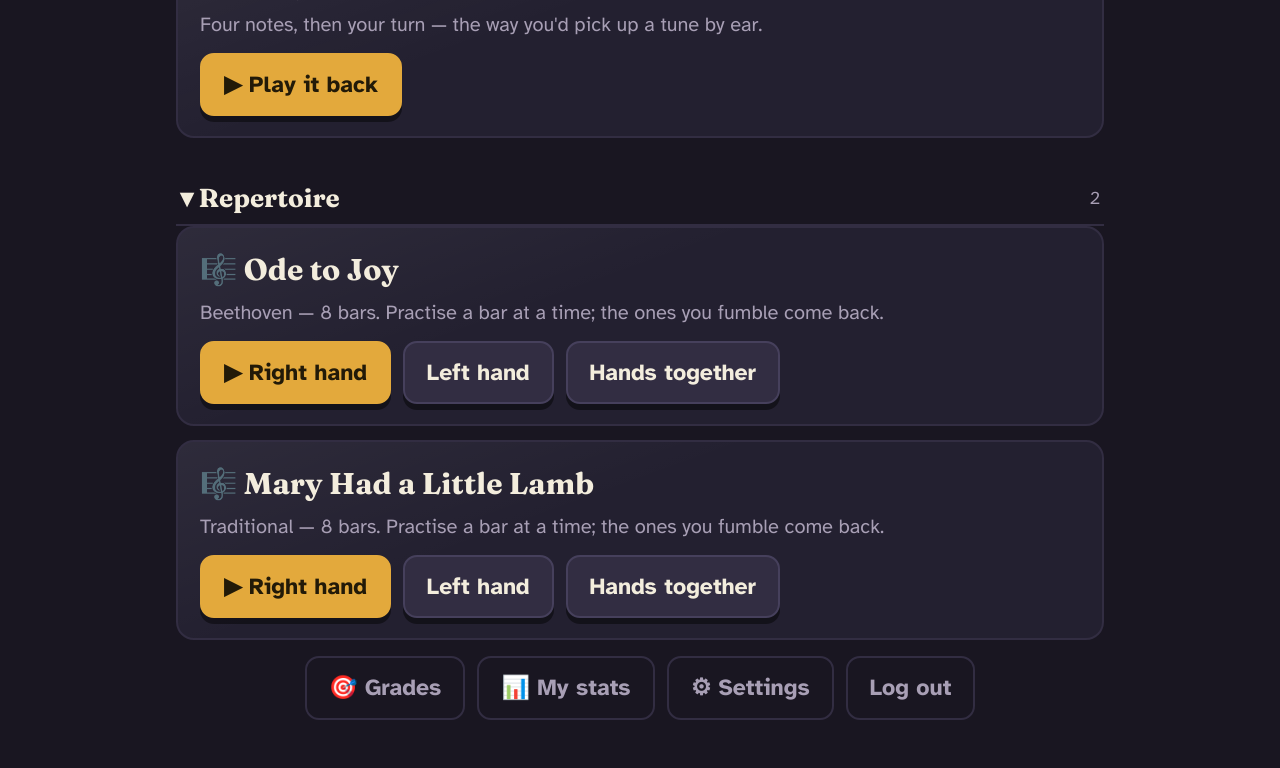
Test: signed in › offers the change-password form under settings
This screenshot has width=1280, height=768.
(page scrolled)
Click the button "⚙ Settings". click: (750, 688)
box: top-left (667, 656), bottom-right (834, 720)
(page scrolled)
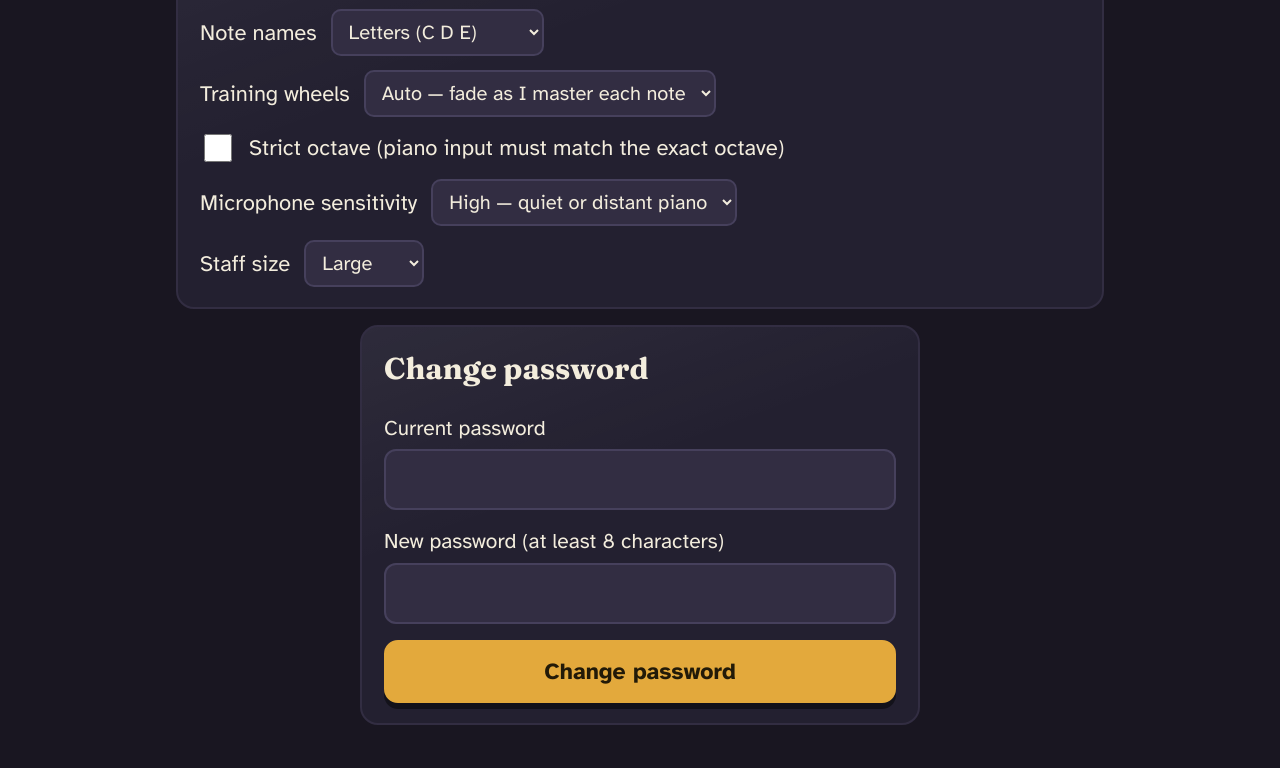
Result: the heading "Change password" is shown at top-left (384, 350), bottom-right (649, 387)
